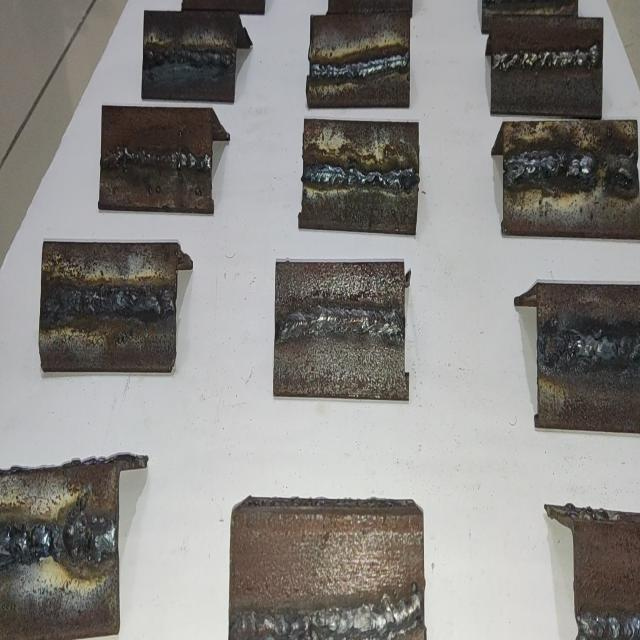Defect: (0, 522, 114, 567), (540, 324, 590, 368), (42, 281, 86, 321), (590, 147, 622, 194)
Welding Line: (230, 586, 418, 640), (0, 519, 116, 567), (504, 146, 636, 187), (276, 304, 404, 346), (42, 283, 176, 322), (304, 158, 418, 191), (541, 329, 640, 367), (310, 48, 408, 84), (494, 46, 602, 72), (102, 148, 212, 171), (142, 46, 235, 70), (578, 610, 640, 639)
Workpiece: (226, 500, 426, 640), (0, 456, 121, 640), (274, 260, 407, 403), (36, 242, 180, 372), (502, 121, 640, 236), (535, 280, 640, 430), (300, 118, 420, 232), (96, 105, 216, 214), (490, 20, 606, 116), (306, 11, 412, 110), (138, 11, 240, 105), (573, 521, 640, 639)
